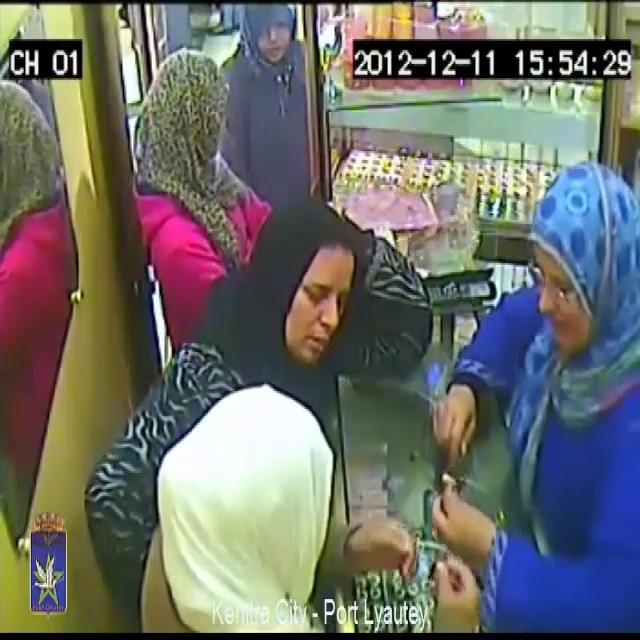Product: (436, 462, 458, 506)
normal: (121, 371, 471, 640), (108, 39, 240, 307), (246, 195, 378, 412), (223, 0, 323, 188)
shoplifting: (456, 130, 640, 640)
